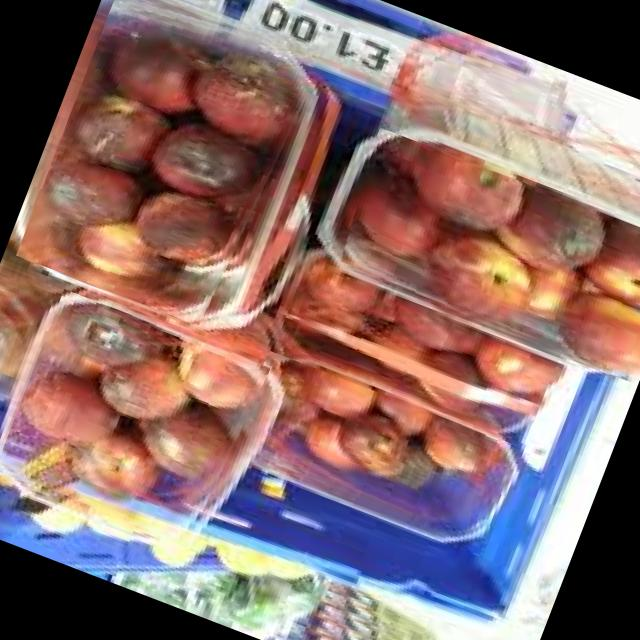Organic: (15, 0, 325, 333), (324, 127, 640, 386), (0, 289, 269, 552), (226, 350, 524, 553), (273, 263, 569, 449)
